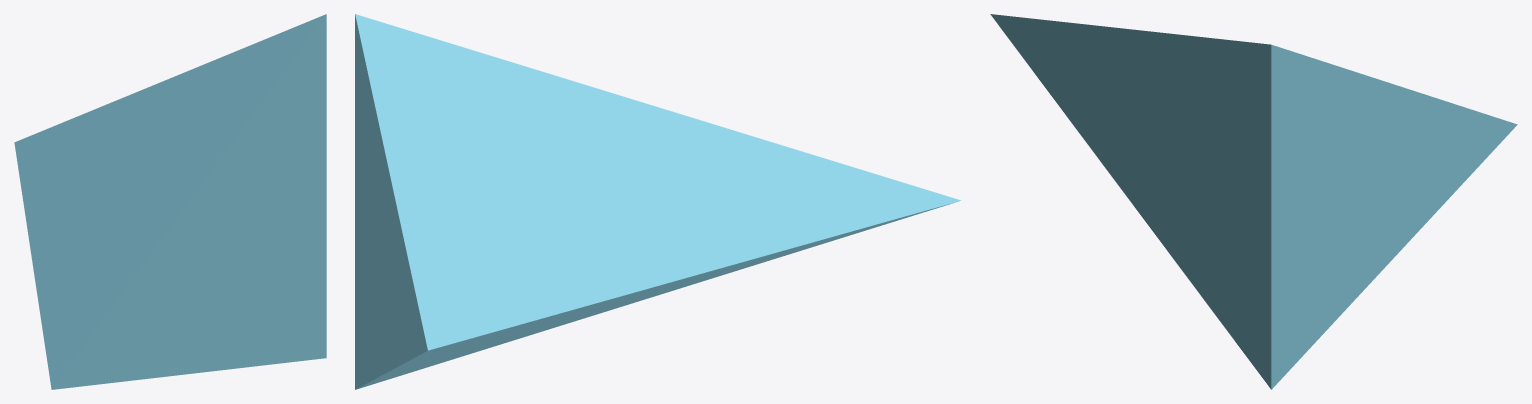
3 views of the same model, side by side, from view 1: azimuth 30°, elevation 25°; view 2: azimuth 150°, elevation 25°; view 3: azimuth 270°, elevation 25° (orthographic). The views are drawn at different scales.
Parts seen in each view (by area): view 1: 柱体; view 2: 柱体; view 3: 柱体.
Part boxes in pixels (x1=…): 柱体: x1=14, y1=14, x2=326, y2=389; 柱体: x1=355, y1=14, x2=961, y2=389; 柱体: x1=990, y1=14, x2=1517, y2=389.
Bounding box in the file's own units: 1.17 × 0.9275 × 1.28.
